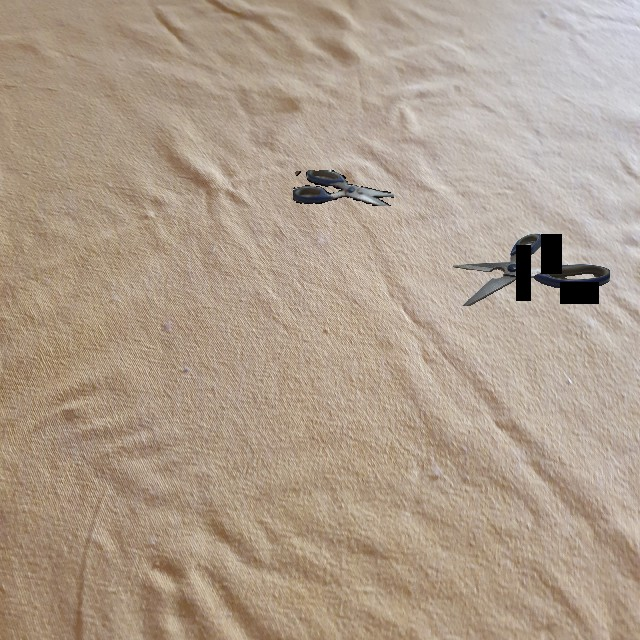scissors: (453, 233, 610, 306), (293, 169, 394, 206)
